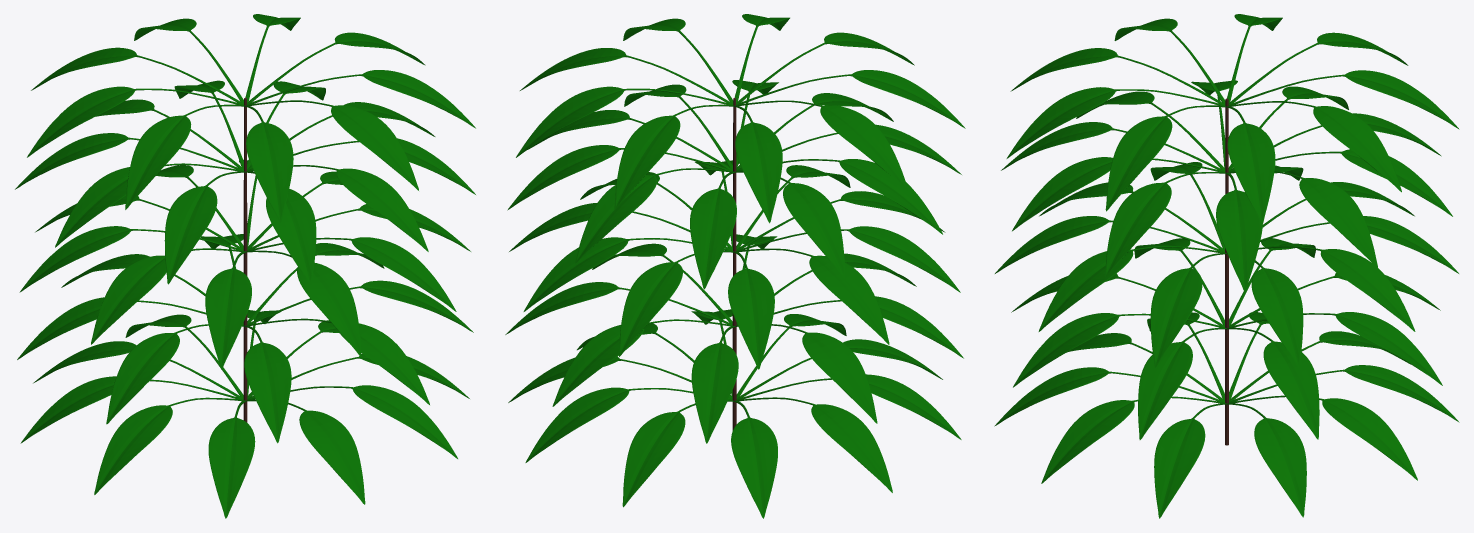
The model's file is small_plant.fbx.
3 renders of one model, left to right at view 1: azimuth 30°, elevation 25°; view 2: azimuth 150°, elevation 25°; view 3: azimuth 270°, elevation 25°, orthographic.
Visible parts, largest first — view 1: Circle.005, Circle, Circle.004, Circle.003, Circle.002, small_plant; view 2: Circle.005, Circle.004, Circle, Circle.003, Circle.002, small_plant; view 3: Circle, Circle.005, Circle.004, Circle.003, Circle.002, small_plant.
Boxes of the visible parts, <box> form: Circle.005: <box>27,14,475,222</box>; Circle: <box>20,310,469,518</box>; Circle.004: <box>15,80,475,285</box>; Circle.003: <box>19,159,470,369</box>; Circle.002: <box>17,234,473,443</box>; small_plant: <box>243,98,247,422</box>; Circle.005: <box>516,14,965,223</box>; Circle.004: <box>507,80,961,289</box>; Circle: <box>508,309,961,518</box>; Circle.003: <box>509,160,960,369</box>; Circle.002: <box>505,234,963,443</box>; small_plant: <box>732,98,736,430</box>; Circle: <box>994,312,1459,518</box>; Circle.005: <box>1006,14,1459,224</box>; Circle.004: <box>1001,80,1452,291</box>; Circle.003: <box>995,162,1458,367</box>; Circle.002: <box>1011,238,1442,439</box>; small_plant: <box>1225,98,1228,445</box>.
Size of the model in its own units: 56.46 by 49.72 by 56.63.
